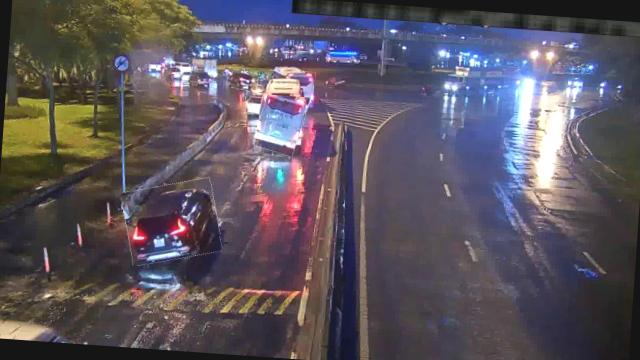Bus: (254, 81, 308, 155), (266, 70, 315, 98)
Car: (119, 176, 222, 267), (230, 70, 258, 91), (188, 68, 214, 89), (243, 92, 264, 114)
